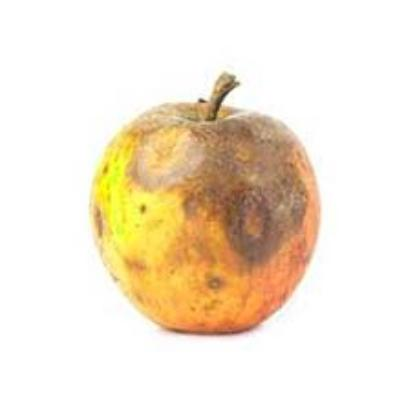defect: (118, 102, 326, 266)
